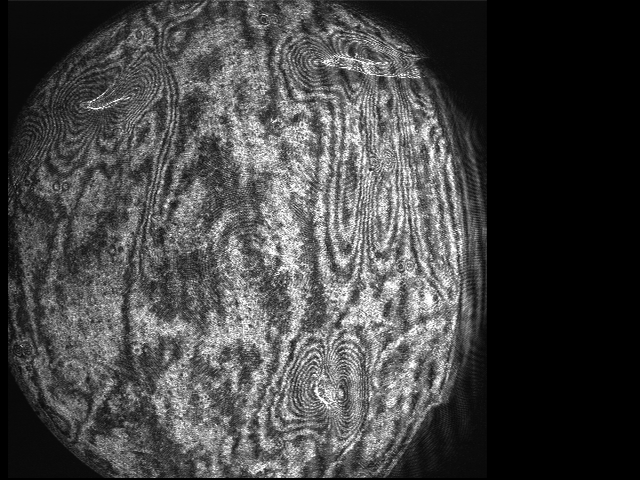plume: (283, 335, 373, 424)
